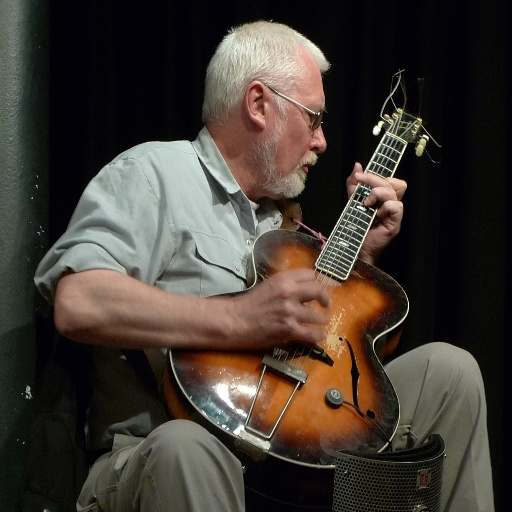hand: (237, 247, 342, 366), (345, 160, 409, 254)
